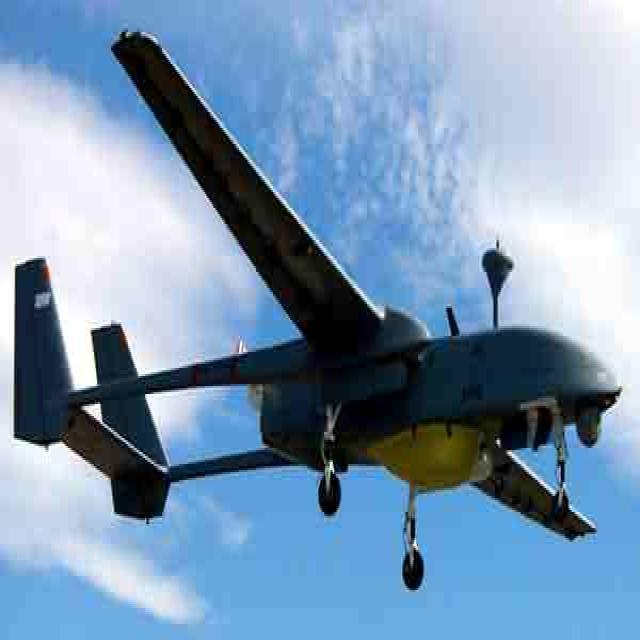iha: (13, 26, 625, 608)
